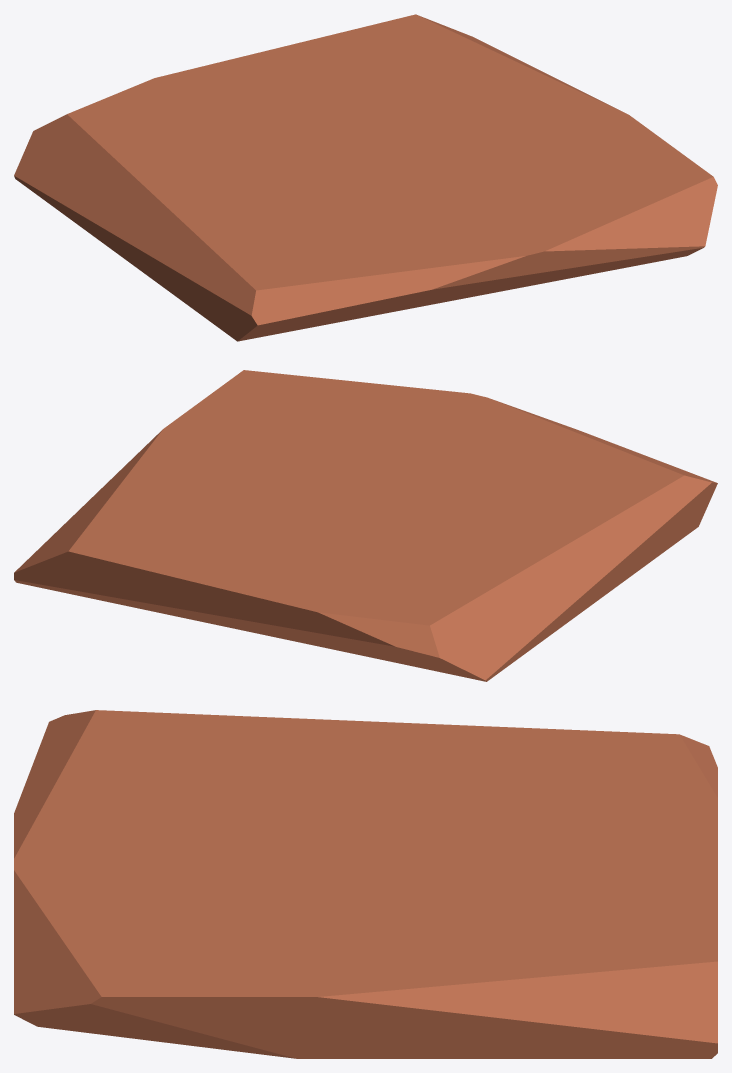
The model's file is Terrain.fbx.
3 renders of one model, top to bottom at view 1: azimuth 30°, elevation 25°; view 2: azimuth 150°, elevation 25°; view 3: azimuth 270°, elevation 25°, orthographic. The views are drawn at different scales.
Parts seen in each view (by area): view 1: Terrain; view 2: Terrain; view 3: Terrain.
Part boxes in pixels (x1=…): Terrain: x1=14, y1=14, x2=717, y2=341; Terrain: x1=14, y1=370, x2=717, y2=681; Terrain: x1=14, y1=710, x2=717, y2=1058.
Size of the model in its own units: 1000 by 96.97 by 1000.
